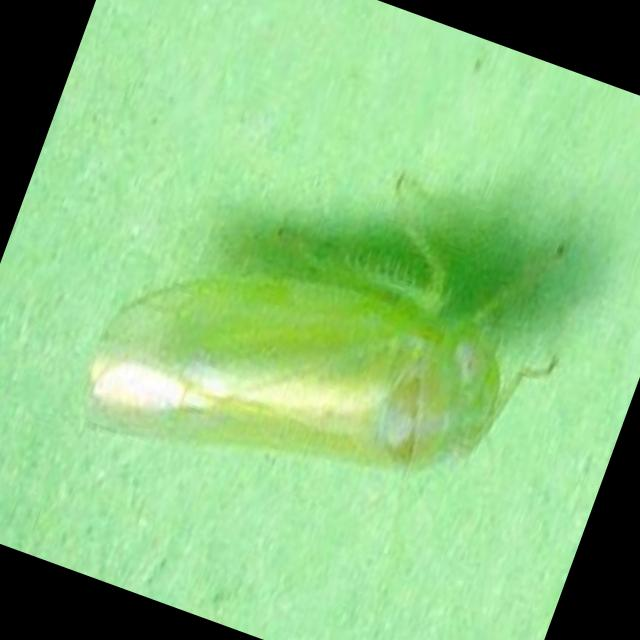green-leafhopper: (78, 179, 547, 554)
